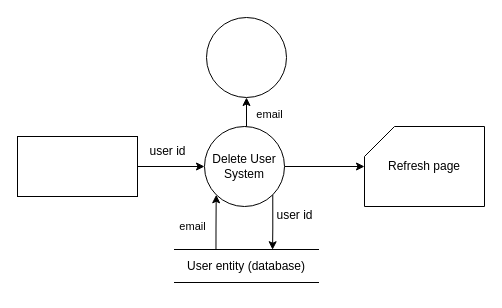
Image size: 502x308. Some labels were removed from this diagram. The shapes that lost their labels are listed below. From the top down, each one's centre as x and y in pixels, then its label:
pixel 246 57: Send Email System
pixel 77 166: Delete user button
